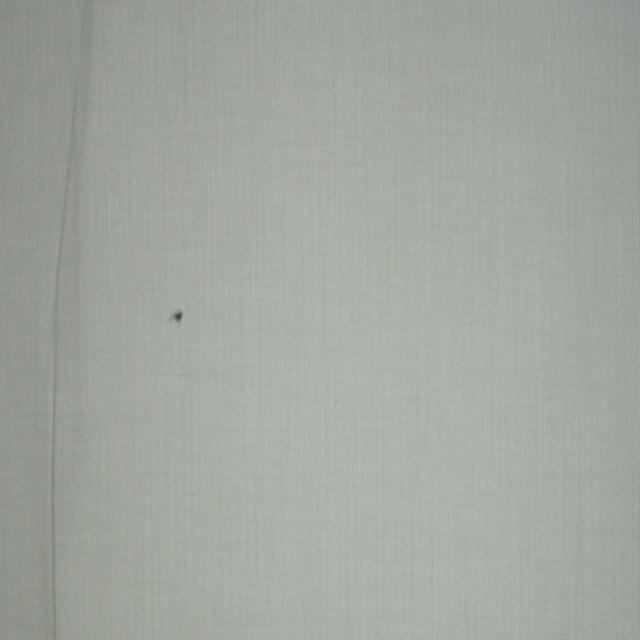dirty: (171, 310, 183, 322)
